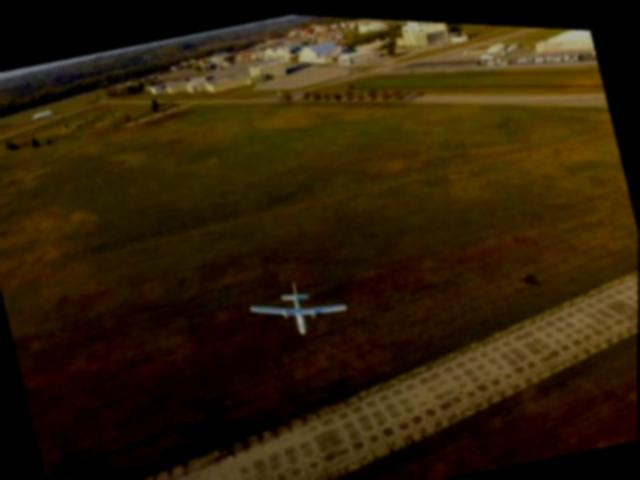uav: (244, 267, 354, 346)
